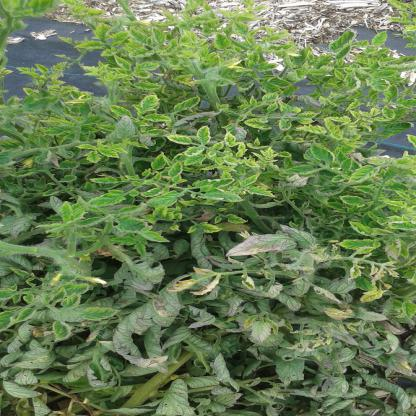tomato leaf yellow virus: (85, 188, 135, 209), (114, 216, 161, 237), (342, 163, 381, 186), (329, 66, 361, 93), (337, 238, 386, 255), (132, 228, 175, 247), (144, 191, 189, 208), (326, 31, 364, 50), (305, 143, 333, 168), (108, 103, 137, 126), (58, 200, 77, 231), (332, 194, 371, 209), (129, 26, 155, 47), (134, 95, 160, 116), (127, 63, 160, 79), (202, 191, 246, 203), (202, 177, 237, 192), (111, 52, 137, 70), (280, 165, 316, 178), (346, 221, 377, 236), (294, 124, 329, 137), (238, 171, 264, 188), (246, 186, 280, 199), (378, 104, 398, 126), (222, 213, 260, 224), (92, 21, 110, 44), (365, 77, 391, 92), (195, 126, 215, 145), (251, 63, 285, 74), (212, 33, 234, 50), (144, 113, 175, 125), (368, 31, 391, 47), (194, 221, 224, 233), (165, 163, 186, 180), (95, 147, 123, 159), (245, 118, 269, 132), (185, 145, 209, 159), (150, 151, 167, 170), (166, 136, 194, 147), (221, 131, 240, 147), (129, 82, 162, 91), (262, 92, 281, 105)
